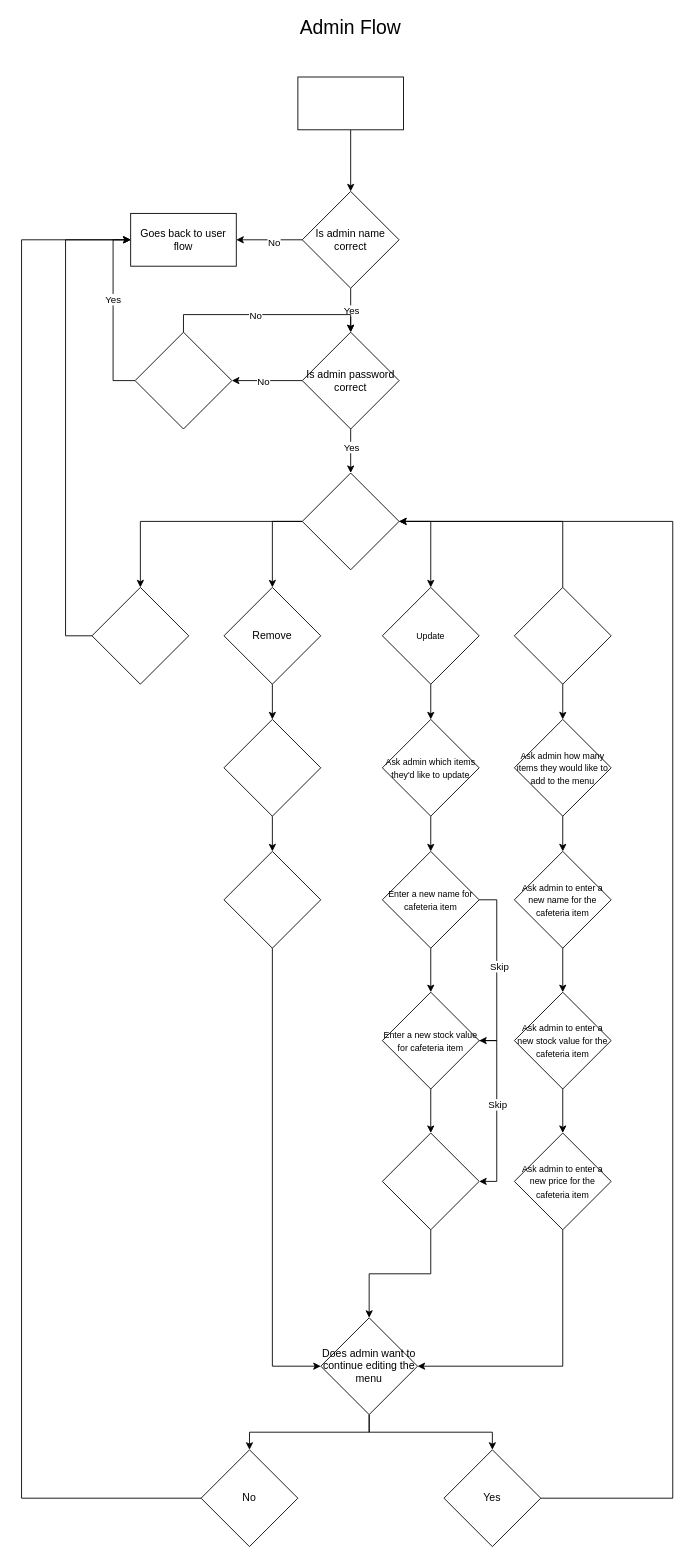
Some shapes in this 695 by 1562 pixel diagram are drawn without their labels. The centre of each missing label's shape, as x and y in pixels:
Add: point (562, 635)
Ask admin how which items they would like to remove: point (272, 767)
Does admin want to Add/Update/Remove /Exit: point (350, 521)
Enter a new price for cafeteria item: point (430, 1181)
Enter name: point (350, 103)
Exit: point (140, 635)
Has user inputted an incorrect password more than 3 times?: point (183, 380)
Remove item from menu: point (272, 899)
